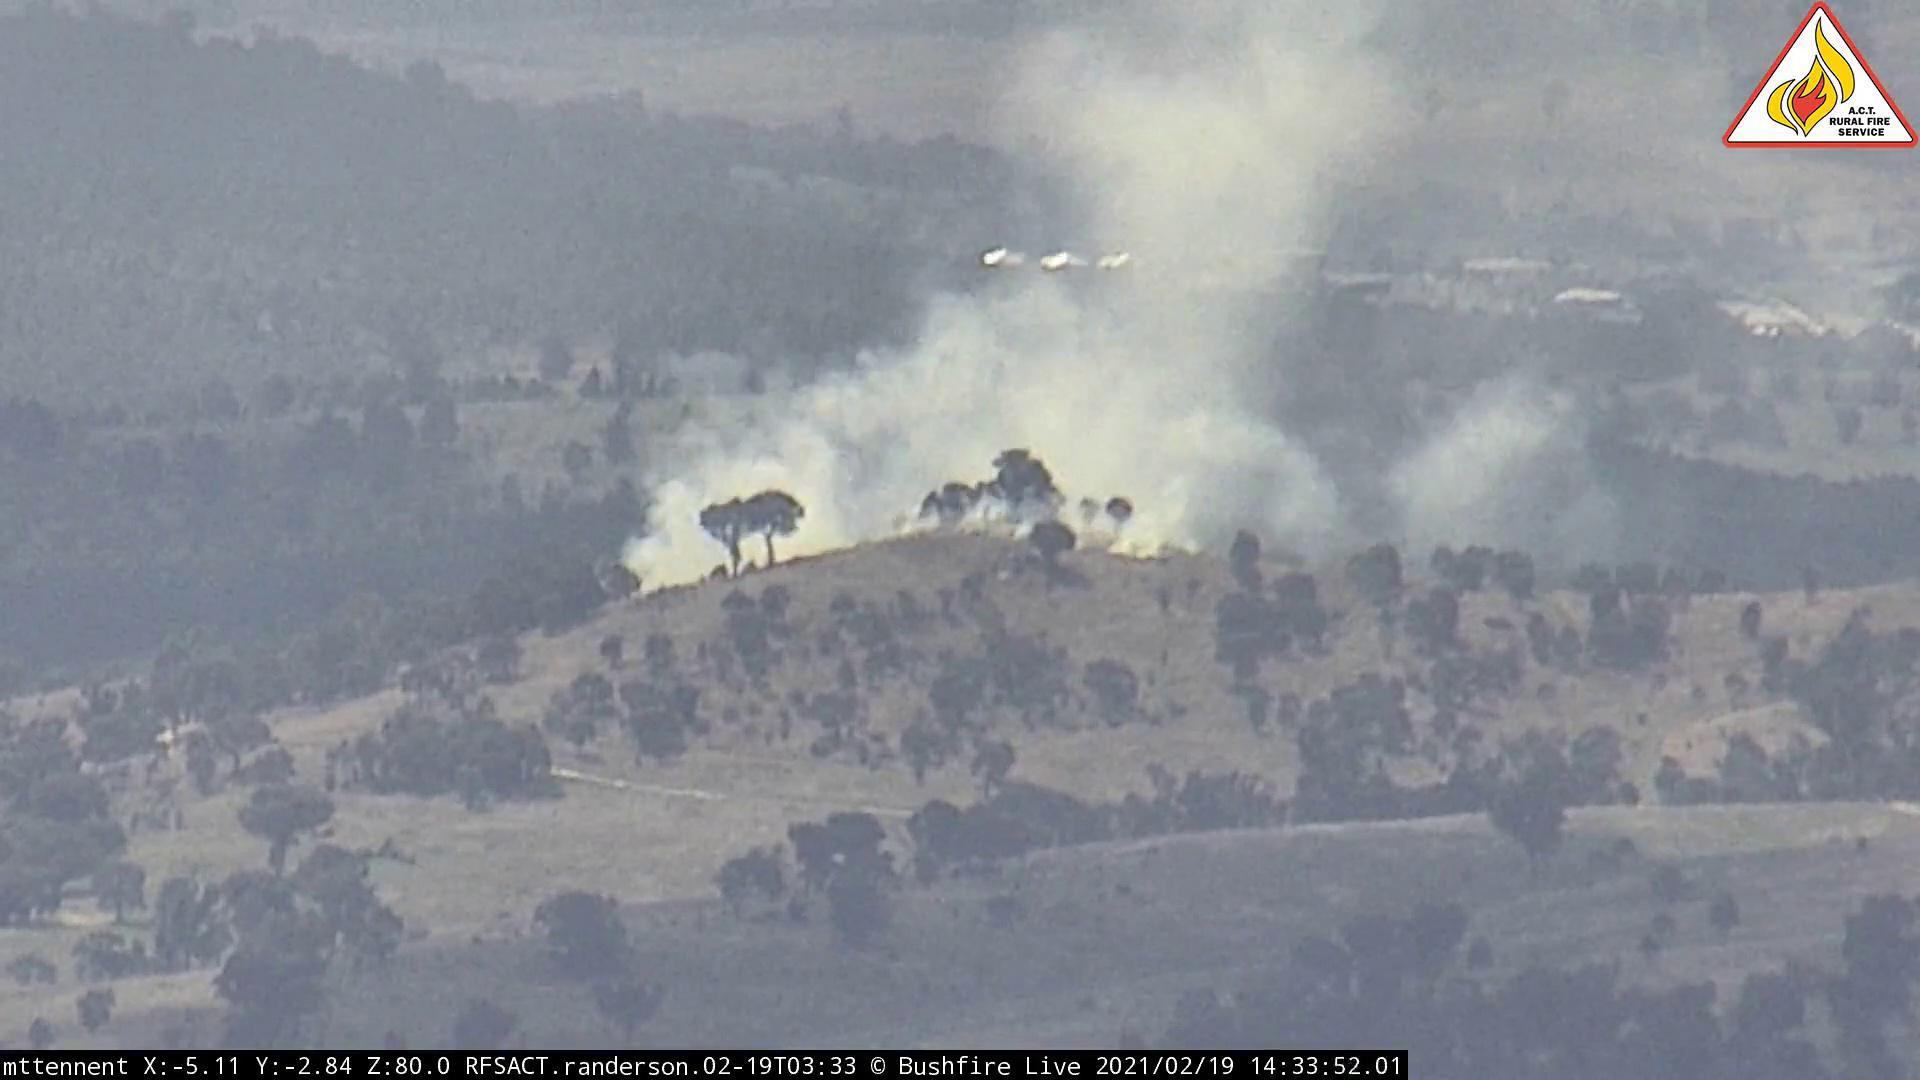Smoke: (616, 3, 1677, 616)
